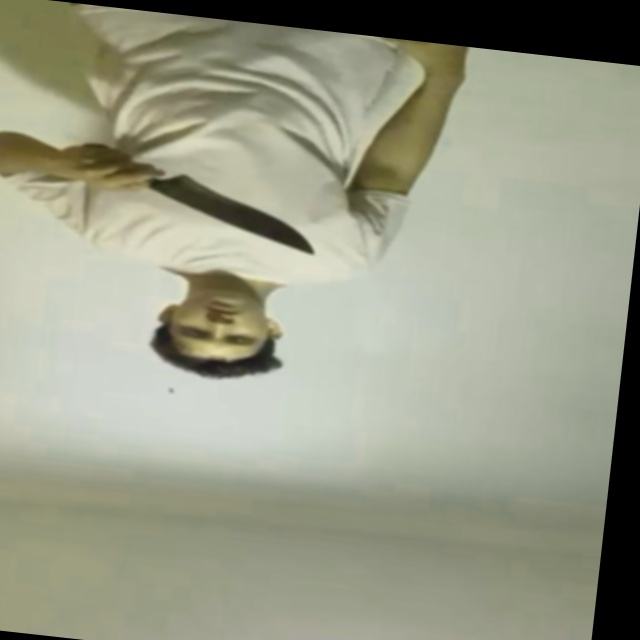Sharp-Object: (160, 174, 322, 258)
